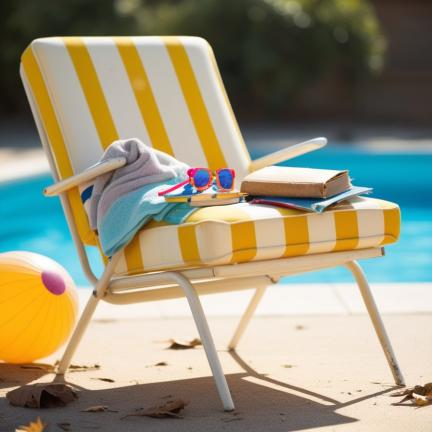occupied chair: (20, 36, 404, 410)
